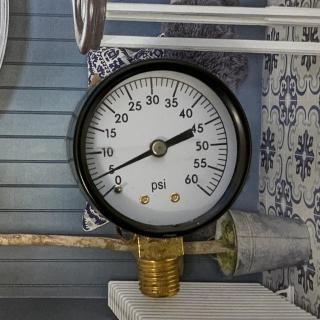gauge: (67, 43, 257, 241), (0, 0, 8, 104), (102, 177, 126, 199), (187, 176, 210, 196), (150, 138, 168, 158), (89, 176, 99, 183)
